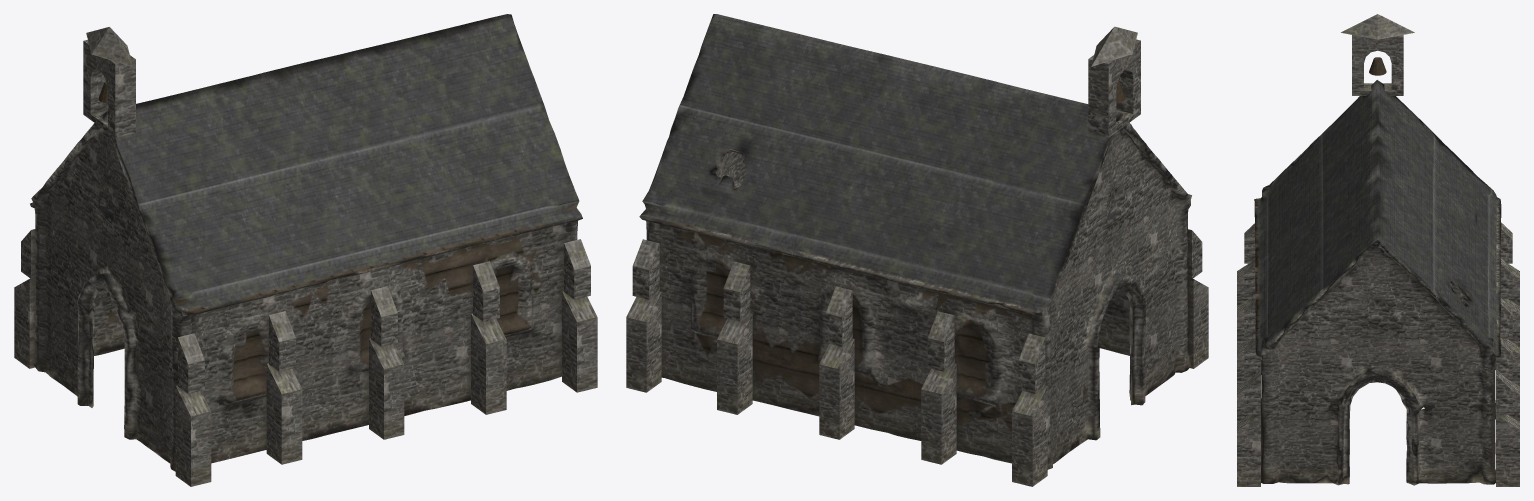
The model's file is church_parish_grim.glb.
3 views of the same model, side by side, from view 1: azimuth 30°, elevation 25°; view 2: azimuth 150°, elevation 25°; view 3: azimuth 270°, elevation 25° (orthographic). The views are drawn at different scales.
Visible parts, largest first — view 1: church_parish_grim; view 2: church_parish_grim; view 3: church_parish_grim.
Boxes of the visible parts, x1,y1,x2,y2 form: church_parish_grim: [14, 14, 597, 486]; church_parish_grim: [626, 14, 1208, 486]; church_parish_grim: [1237, 14, 1519, 486].
Bounding box in the file's own units: 11.3 × 10.15 × 8.22.
1 material, 1 textured.
